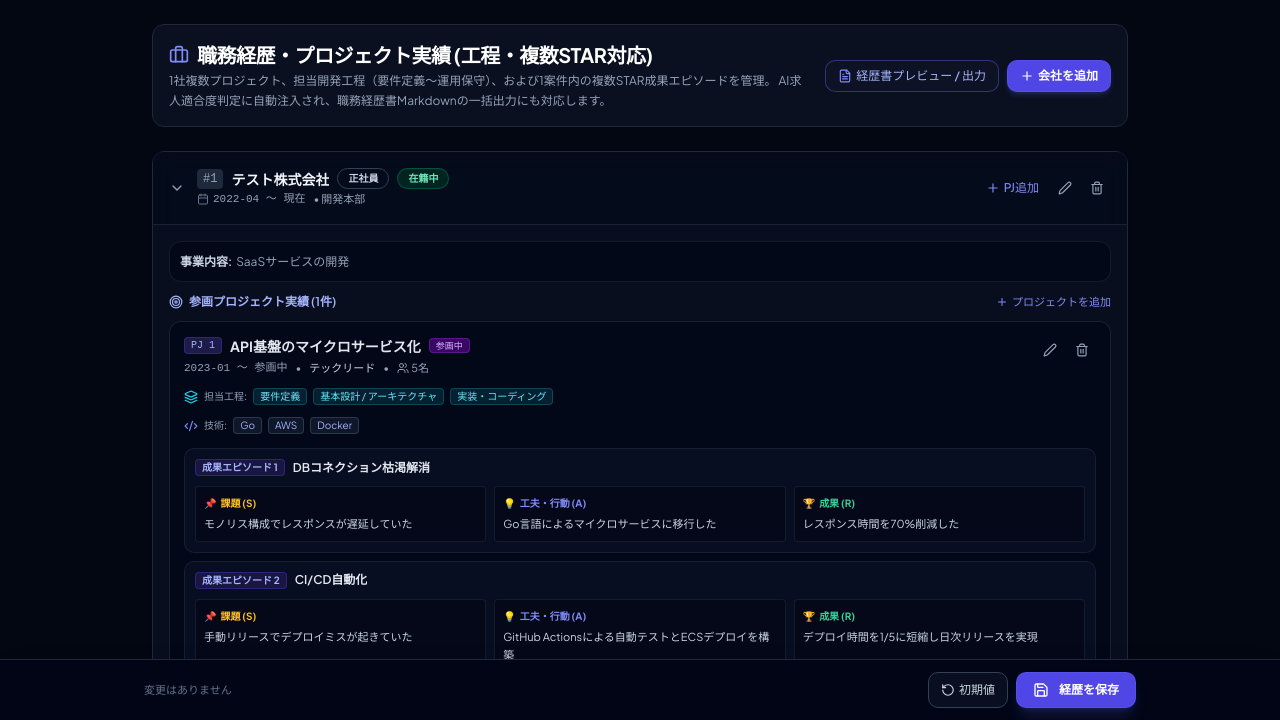
Scenario: CareerHistoryView Component › adds skills using the explicit Add button and comma separation
Check: the heading "職務経歴・プロジェクト実績 (工程・複数STAR対応)" is shown, box x1=169 y1=42 x2=652 y2=67
Click the button titled "この会社にプロジェクトを追加" at (1012,188), box x1=978 y1=174 x2=1047 y2=202
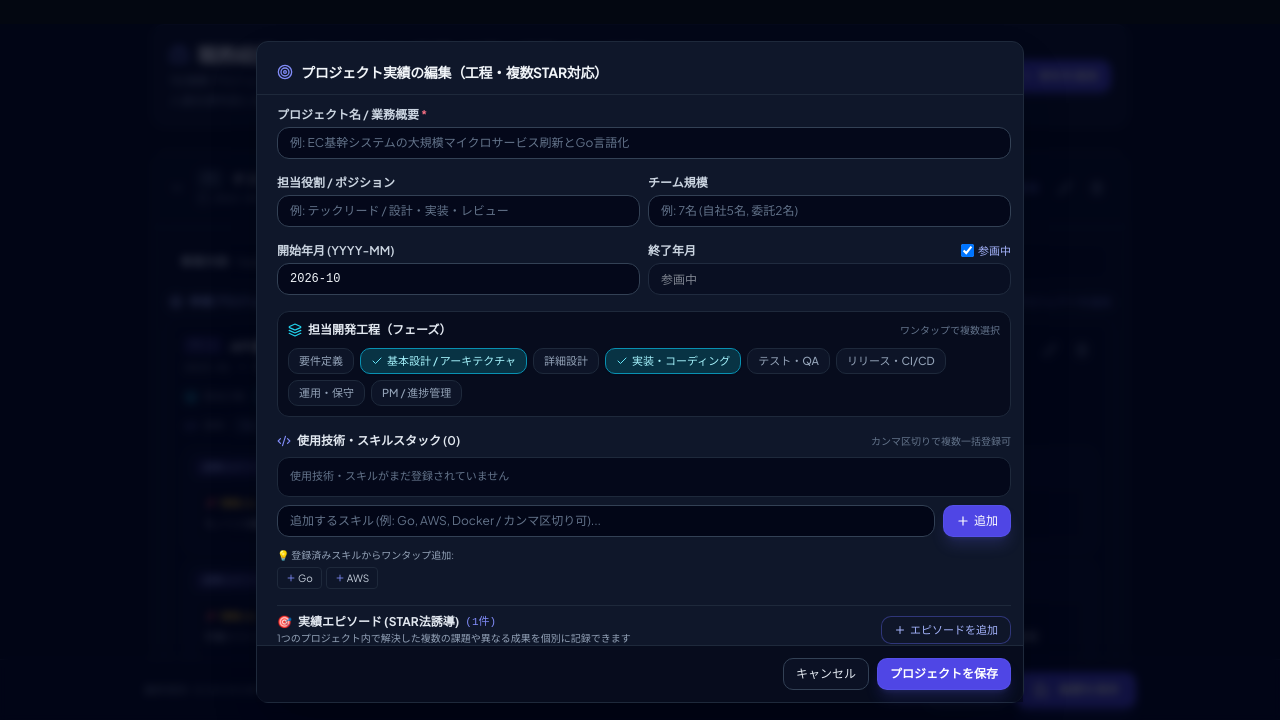
Check: the heading "プロジェクト実績の編集（工程・複数STAR対応）" is shown, box x1=277 y1=62 x2=608 y2=82
Type "GraphQL, Redis" into the field with placeholder "追加するスキル (例: Go, AWS, Docker / カンマ区切り可)..." at (606,521), box x1=277 y1=505 x2=935 y2=537
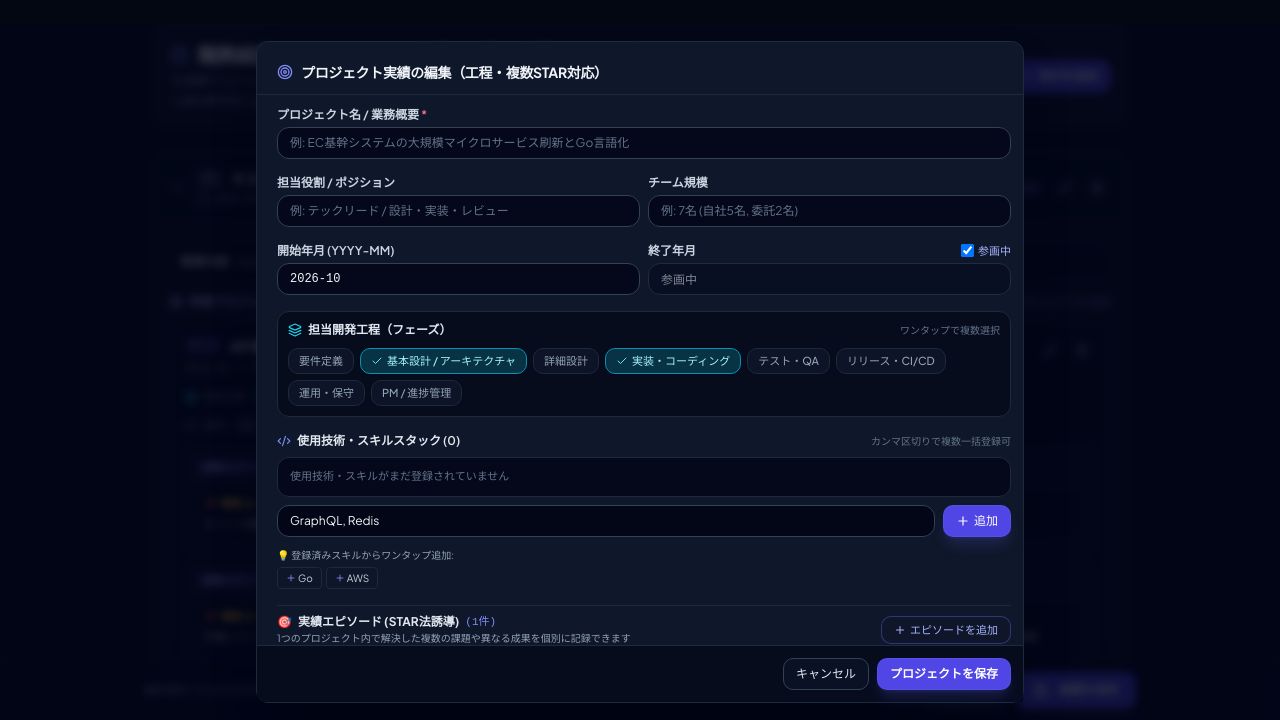
Note: Click the explicit "追加" button
Click the button "追加" at (977,521), box x1=943 y1=505 x2=1011 y2=537
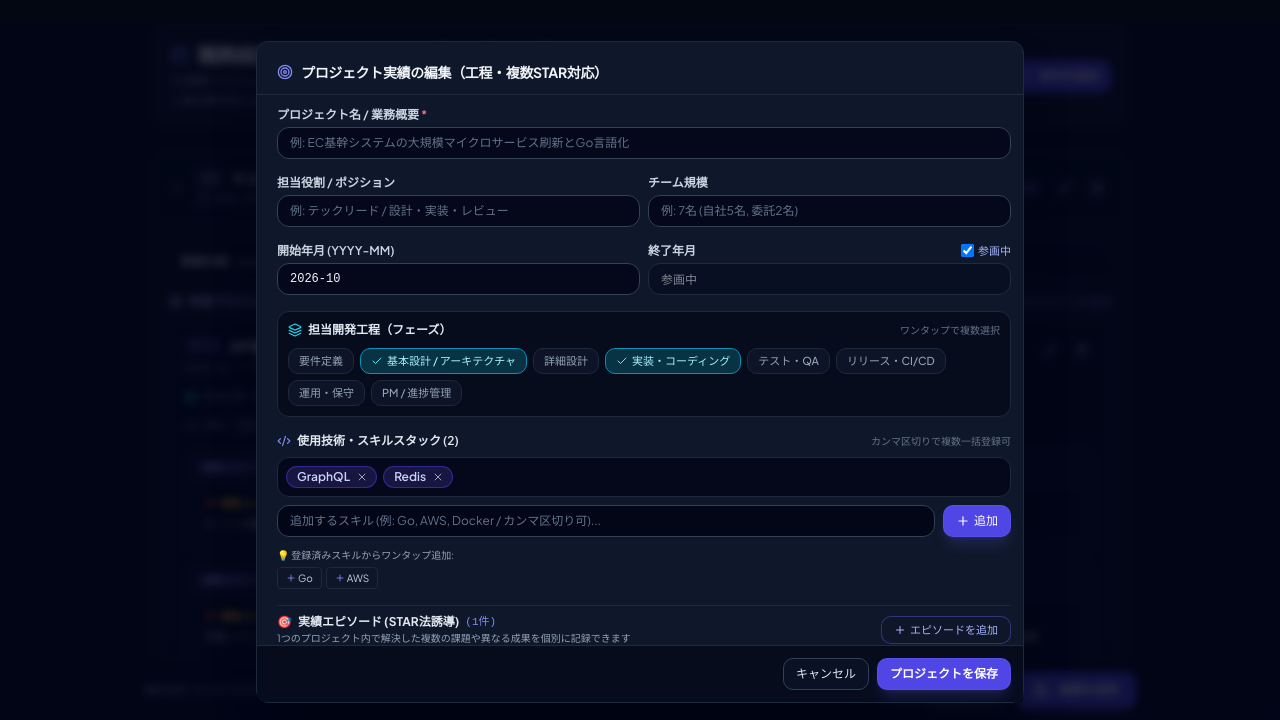
Check: the text "GraphQL" is shown, box x1=297 y1=469 x2=350 y2=485
Check: the text "Redis" is shown, box x1=394 y1=469 x2=426 y2=485
